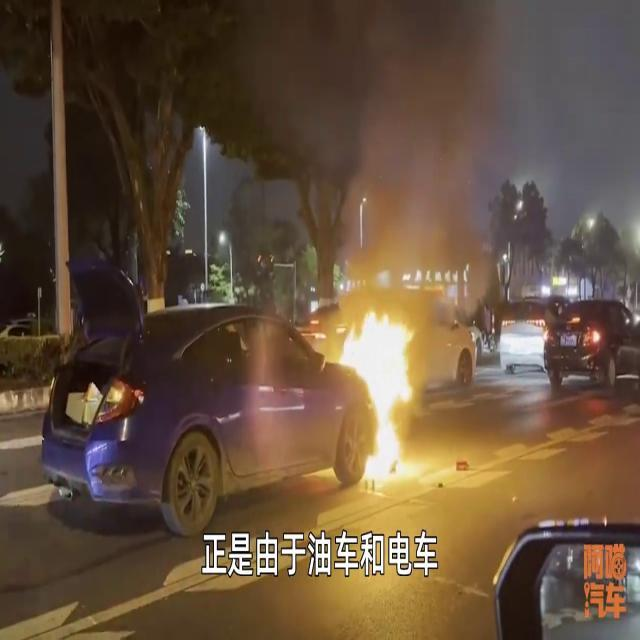Fire: (330, 287, 424, 492)
Smoke: (237, 1, 511, 279)
